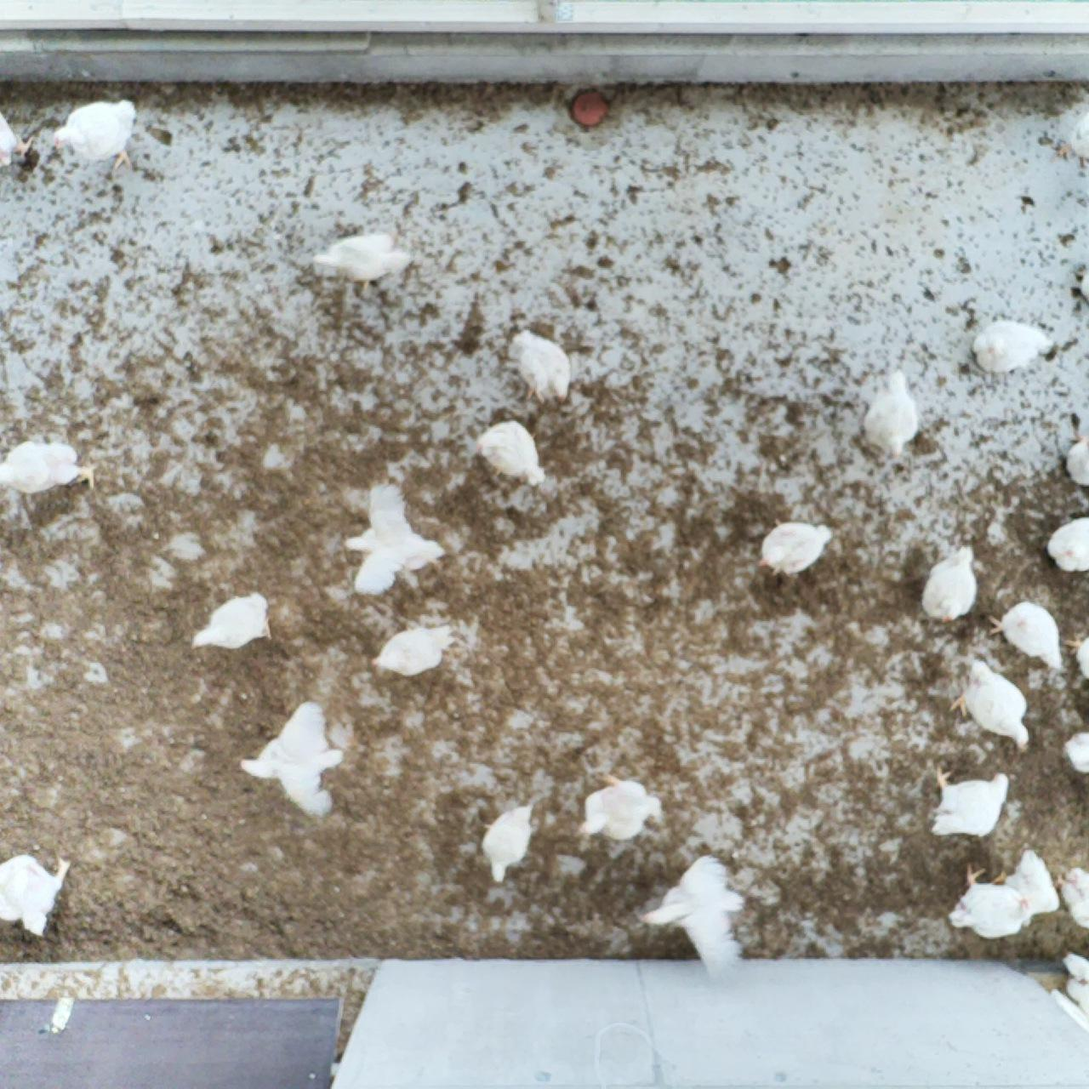chicken: (633, 852, 752, 982), (330, 476, 450, 602), (234, 693, 347, 823), (570, 767, 669, 853), (948, 655, 1036, 751), (945, 859, 1034, 946), (47, 95, 140, 175), (305, 228, 416, 295), (924, 759, 1009, 844), (0, 849, 76, 942), (181, 588, 281, 658), (983, 592, 1068, 674), (857, 365, 926, 462), (502, 325, 578, 412), (475, 799, 546, 889), (0, 435, 101, 497), (470, 418, 552, 492), (366, 620, 461, 682), (917, 541, 982, 627), (969, 316, 1056, 379), (754, 515, 835, 581), (996, 844, 1065, 919), (1042, 513, 1089, 578), (1051, 862, 1089, 932), (1052, 947, 1089, 1016), (1052, 107, 1089, 175), (0, 108, 37, 175), (1057, 425, 1089, 492), (1052, 724, 1089, 779), (1057, 629, 1089, 681)
